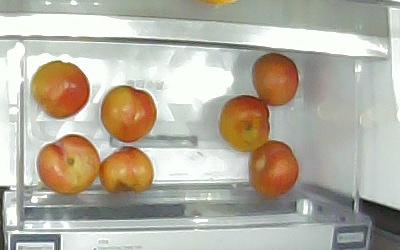prune: (37, 134, 101, 195), (30, 60, 90, 119), (100, 86, 158, 143), (219, 94, 269, 152), (249, 141, 298, 198), (99, 146, 154, 193), (252, 53, 298, 106)
